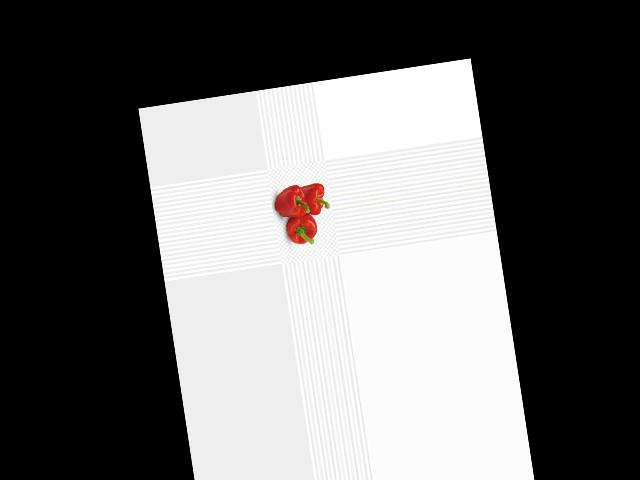bell_pepper: (281, 208, 323, 249)
